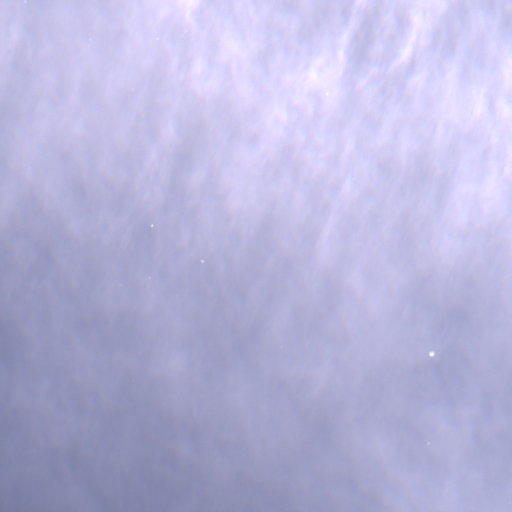Iceberg: (430, 352, 433, 355), (201, 260, 203, 262), (151, 225, 152, 226), (428, 442, 429, 443)
